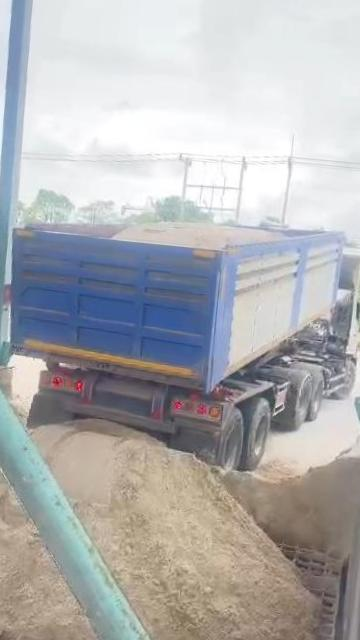sand: (34, 421, 315, 640), (0, 455, 98, 640), (220, 443, 360, 558), (113, 222, 283, 249), (0, 365, 19, 415)
